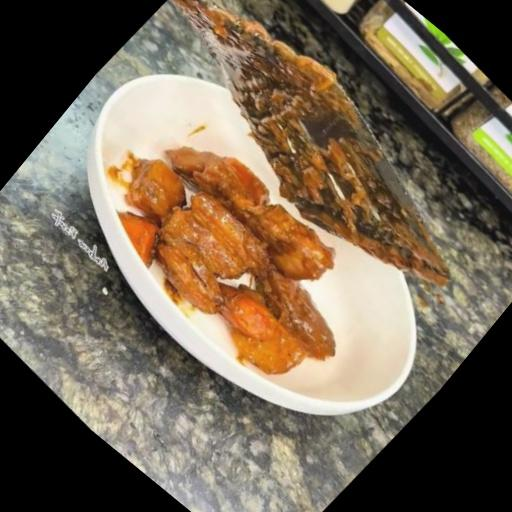pork caldereta: (134, 153, 331, 374)
